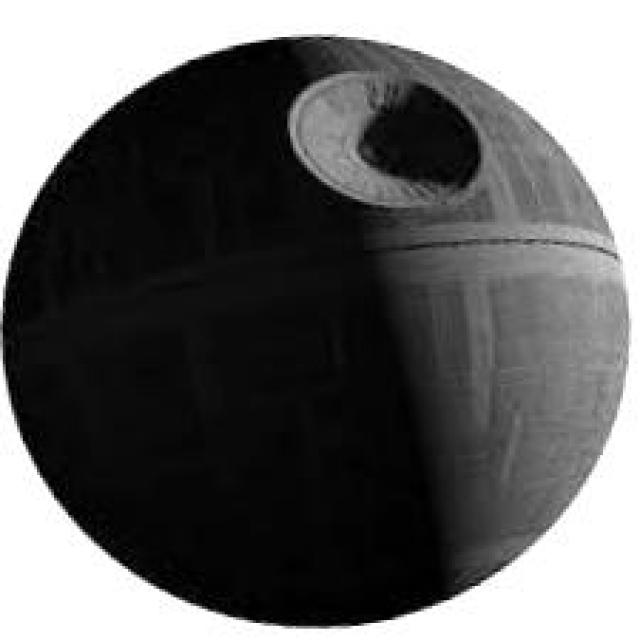deathstar: (4, 37, 628, 624)
